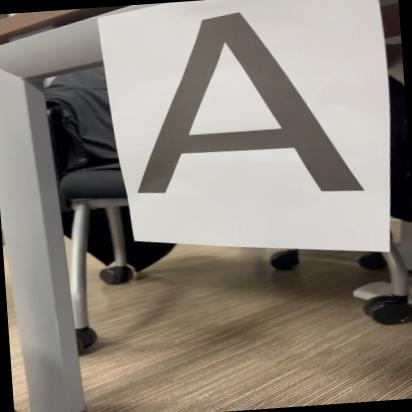seat: (124, 0, 377, 220)
